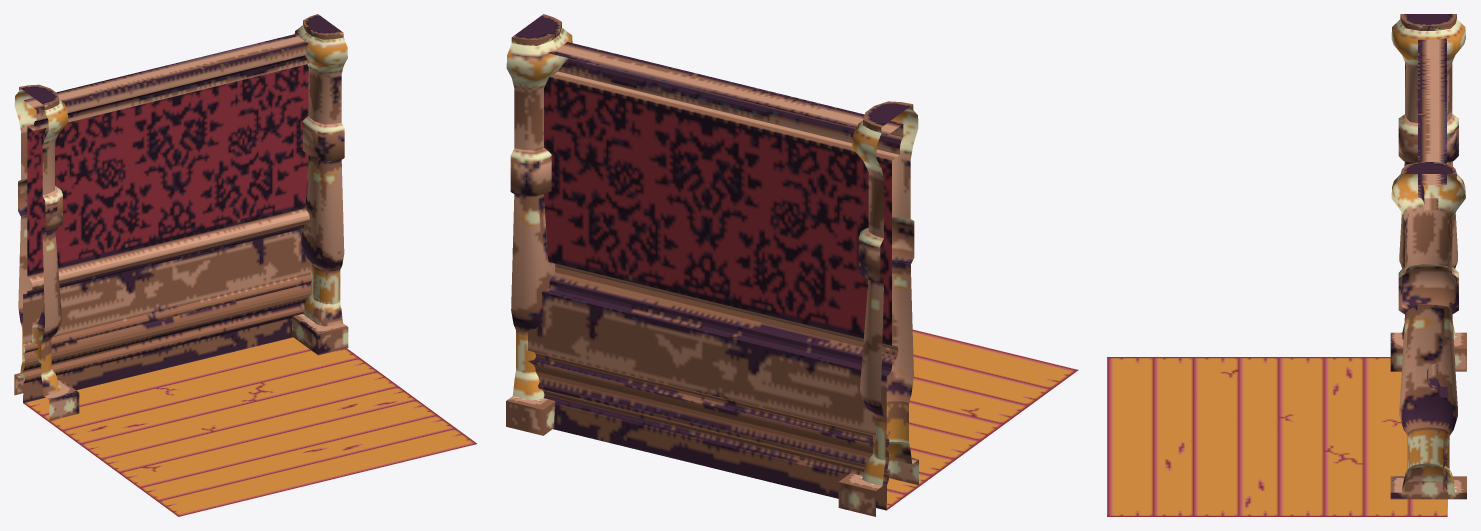
File: tile_wall_v1.fbx
3 renders of one model, left to right at view 1: azimuth 30°, elevation 25°; view 2: azimuth 150°, elevation 25°; view 3: azimuth 270°, elevation 25°, orthographic. The views are drawn at different scales.
Parts seen in each view (by area): view 1: tile_wall_v1; view 2: tile_wall_v1; view 3: tile_wall_v1.
Part boxes in pixels (x1,y1,x2,y2): tile_wall_v1: (14,14,476,516); tile_wall_v1: (506,14,1078,516); tile_wall_v1: (1107,14,1466,516).
Bounding box in the file's own units: 200 × 200 × 190.
